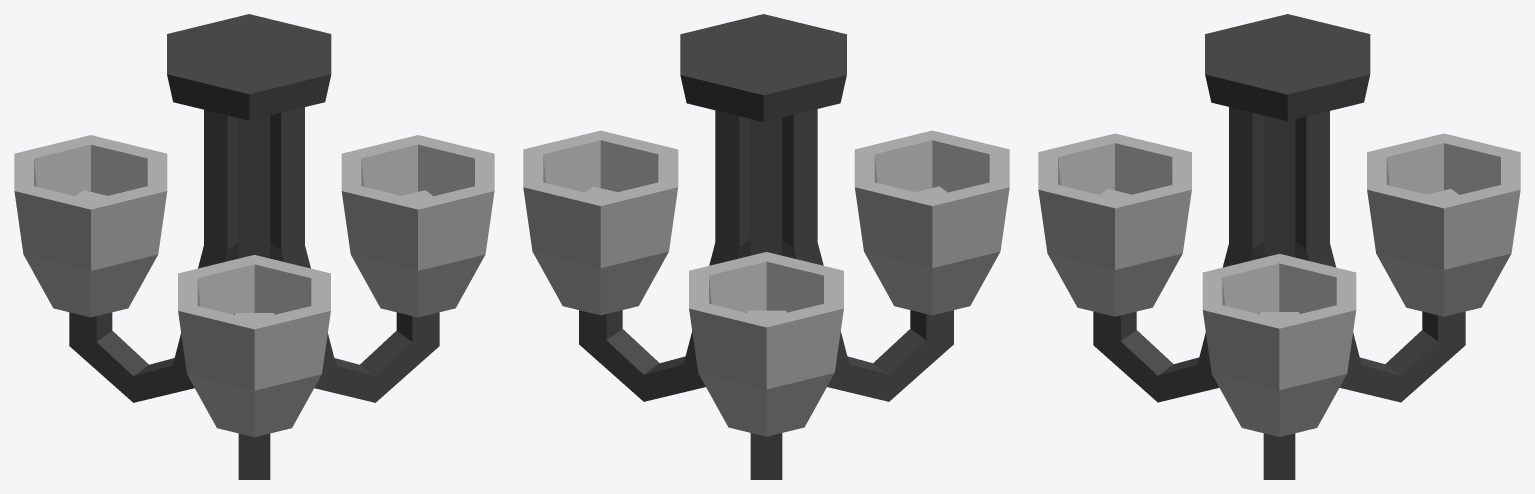
Rendered from SM_Prop_CeilingLight_06.fbx.
The picture shows the model from 3 angles, left to right: view 1: azimuth 30°, elevation 25°; view 2: azimuth 150°, elevation 25°; view 3: azimuth 270°, elevation 25°; orthographic projection.
Visible parts, largest first — view 1: SM_Prop_CeilingLight_06; view 2: SM_Prop_CeilingLight_06; view 3: SM_Prop_CeilingLight_06.
Boxes of the visible parts, left/top/right/bottom form: SM_Prop_CeilingLight_06: left=14, top=14, right=494, bottom=479; SM_Prop_CeilingLight_06: left=523, top=14, right=1009, bottom=479; SM_Prop_CeilingLight_06: left=1038, top=14, right=1520, bottom=479.
Bounding box in the file's own units: 56.8 × 50.12 × 59.29.
